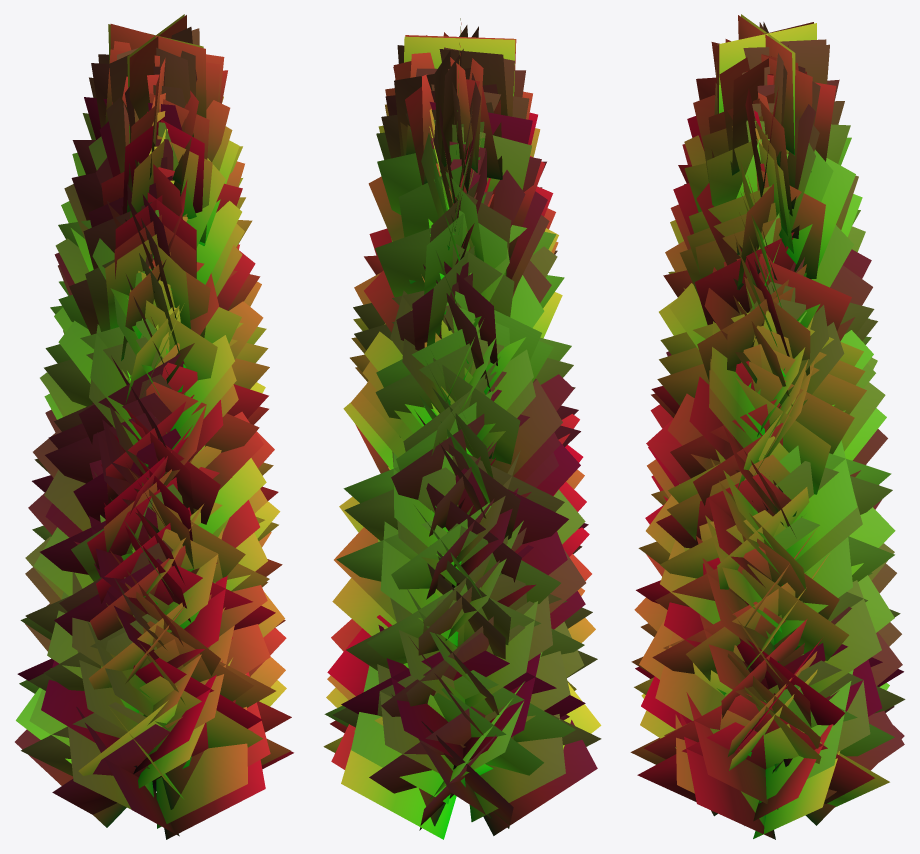
Rendered from URP_P4_Tree_8_LOD_3.fbx.
3 views of the same model, side by side, from view 1: azimuth 30°, elevation 25°; view 2: azimuth 150°, elevation 25°; view 3: azimuth 270°, elevation 25° (orthographic).
Parts seen in each view (by area): view 1: Tree_8_LOD_3; view 2: Tree_8_LOD_3; view 3: Tree_8_LOD_3.
Boxes of the visible parts, x1,y1,x2,y2 form: Tree_8_LOD_3: [15, 14, 293, 839]; Tree_8_LOD_3: [323, 18, 601, 839]; Tree_8_LOD_3: [630, 14, 905, 839].
Bounding box in the file's own units: 210 × 662 × 210.
